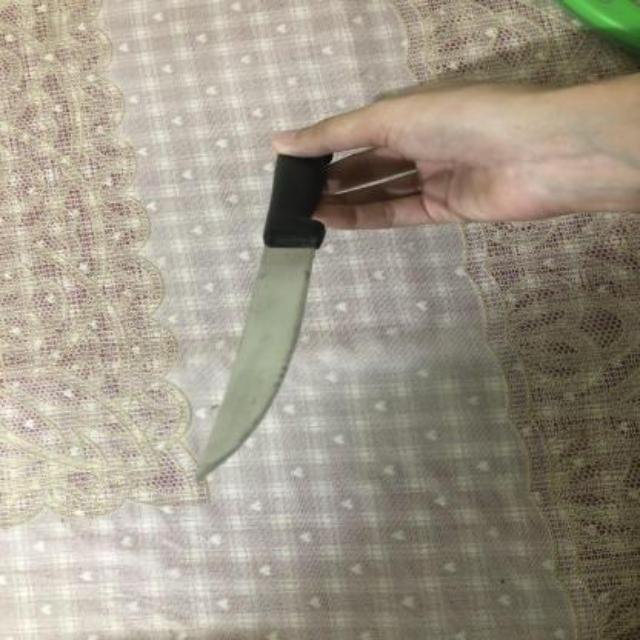Knife: (194, 152, 336, 484)
